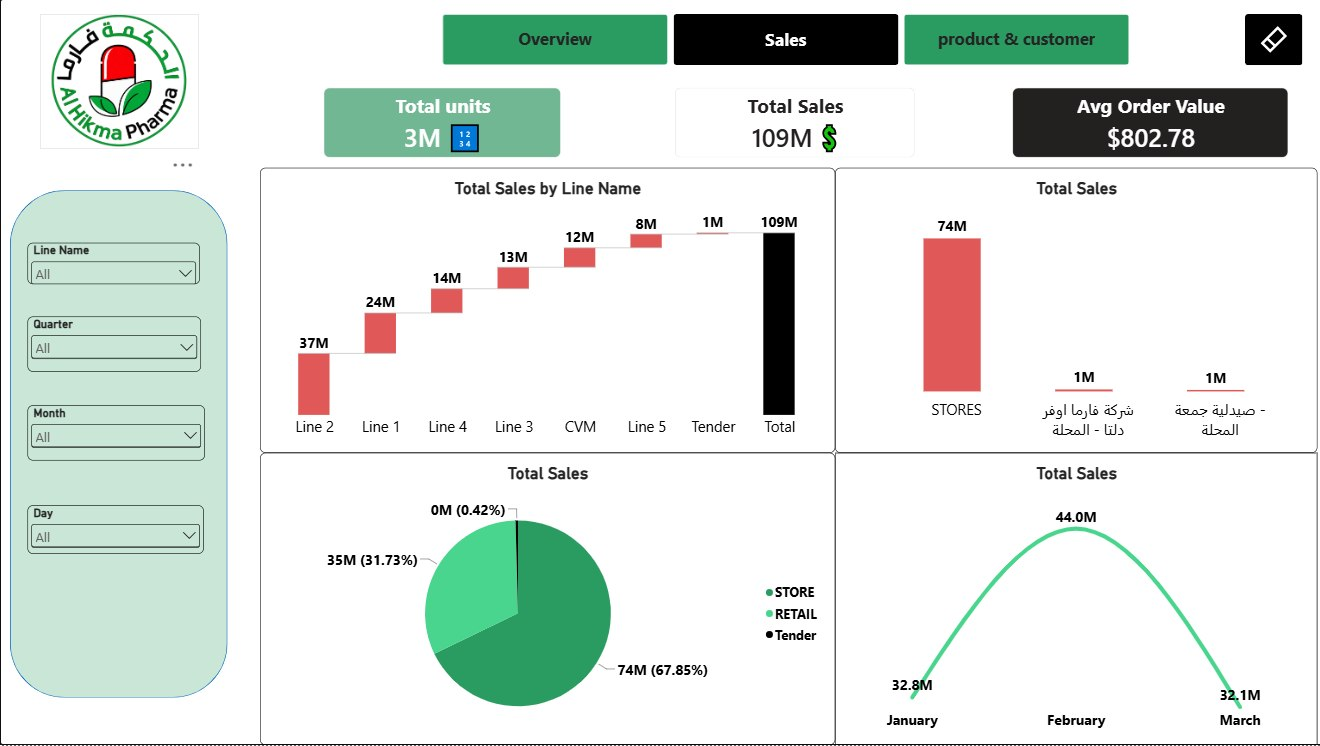

The dashboard page shown, as its layout file describes it:
{"tool":"powerbi","page":{"name":"Sales","canvas":[1920,1080],"ordinal":1},"visuals":[{"type":"cardVisual","fields":{"Data":["Table3.Total units"]},"box":[468.7,128.5,343.8,101.3],"z":0},{"type":"cardVisual","fields":{"Data":["Table3.Total Sales"]},"box":[977.2,128.5,347.5,101.3],"z":1000},{"type":"cardVisual","fields":{"Data":["Avg(Table3.SALES VALUE)"]},"box":[1465.8,128.5,399.9,101.3],"z":2000},{"type":"pieChart","title":"Total Sales ","fields":{"Category":["Table3.SALES TYPE"],"Y":["measure.Total Sales"]},"box":[376.4,656.9,832.4,423.5],"z":3000},{"type":"lineChart","title":"Total Sales ","fields":{"Category":["Table3.Month.Variation.Date Hierarchy.Month"],"Y":["measure.Total Sales"]},"box":[1208.9,656.9,698.5,423.5],"z":4000},{"type":"actionButton","box":[1802.4,21.7,83.2,74.2],"z":5000},{"type":"image","box":[57.9,21.7,229.8,195.4],"z":6000},{"type":"pageNavigator","box":[640.6,21.7,995.3,74.2],"z":7000},{"type":"shape","box":[14.1,276.2,314.9,734.7],"z":8000},{"type":"slicer","fields":{"Values":["Table3.Month.Variation.Date Hierarchy.Month"]},"box":[39.5,587.4,257,79.6],"z":9000},{"type":"slicer","fields":{"Values":["Table3.Month.Variation.Date Hierarchy.Quarter"]},"box":[39.5,458.9,251.5,79.6],"z":10000},{"type":"slicer","fields":{"Values":["Table3.Month.Variation.Date Hierarchy.Day"]},"box":[39.5,732.2,255.2,70.6],"z":11000},{"type":"slicer","fields":{"Values":["Table3.Line Name"]},"box":[39.5,352.2,249.7,59.7],"z":12000},{"type":"waterfallChart","fields":{"Category":["Table3.Line Name"],"Y":["measure.Total Sales"]},"box":[376.4,244.3,832.4,412.6],"z":13000},{"type":"columnChart","title":"Total Sales ","fields":{"Category":["Table3.CUSTOMER NAME"],"Y":["measure.Total Sales"]},"box":[1208.9,244.3,698.5,412.6],"z":14000}]}

Visuals, with their boxes in screenshot pixels (x1, y1, x2, y2), scaled from the page's 1920x1080 canvas onto the 1320x746 screenshot:
cardVisual - Table3.Total units: BBox(322, 89, 559, 159)
cardVisual - Table3.Total Sales: BBox(672, 89, 911, 159)
cardVisual - Avg(Table3.SALES VALUE): BBox(1008, 89, 1283, 159)
"Total Sales " pieChart: BBox(259, 454, 831, 745)
"Total Sales " lineChart: BBox(831, 454, 1311, 745)
actionButton: BBox(1239, 15, 1296, 66)
image: BBox(40, 15, 198, 150)
pageNavigator: BBox(440, 15, 1125, 66)
shape: BBox(10, 191, 226, 698)
slicer - Table3.Month.Variation.Date Hierarchy.Month: BBox(27, 406, 204, 461)
slicer - Table3.Month.Variation.Date Hierarchy.Quarter: BBox(27, 317, 200, 372)
slicer - Table3.Month.Variation.Date Hierarchy.Day: BBox(27, 506, 203, 555)
slicer - Table3.Line Name: BBox(27, 243, 199, 285)
waterfallChart - Table3.Line Name x measure.Total Sales: BBox(259, 169, 831, 454)
"Total Sales " columnChart: BBox(831, 169, 1311, 454)
